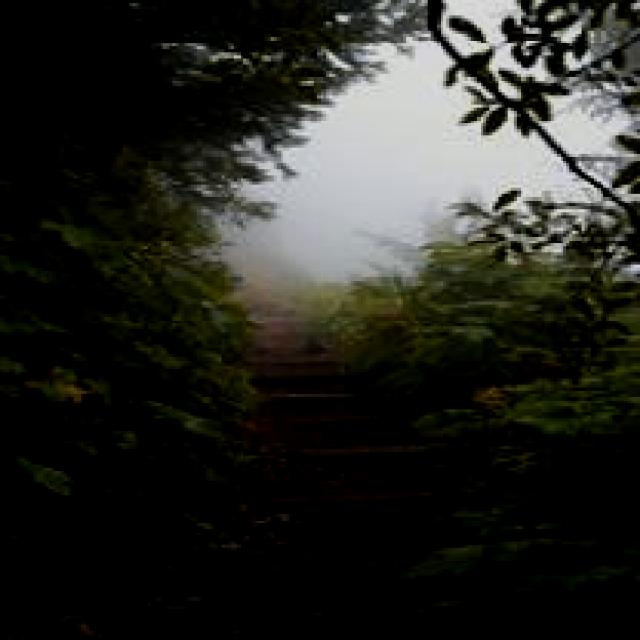upstair: (229, 318, 435, 579)
